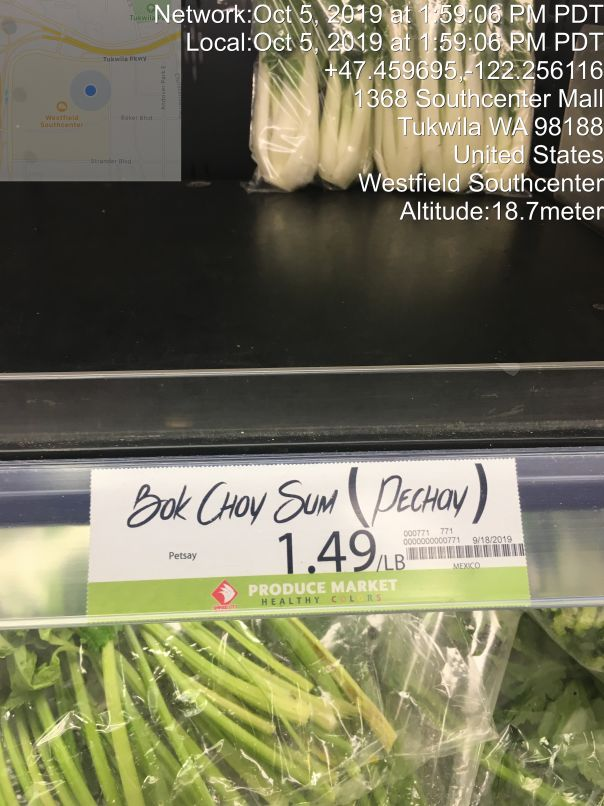Bok choy sum: (71, 450, 554, 625)
Location: (347, 80, 604, 201)
Time: (149, 2, 604, 57)
Void: (27, 188, 589, 376)
